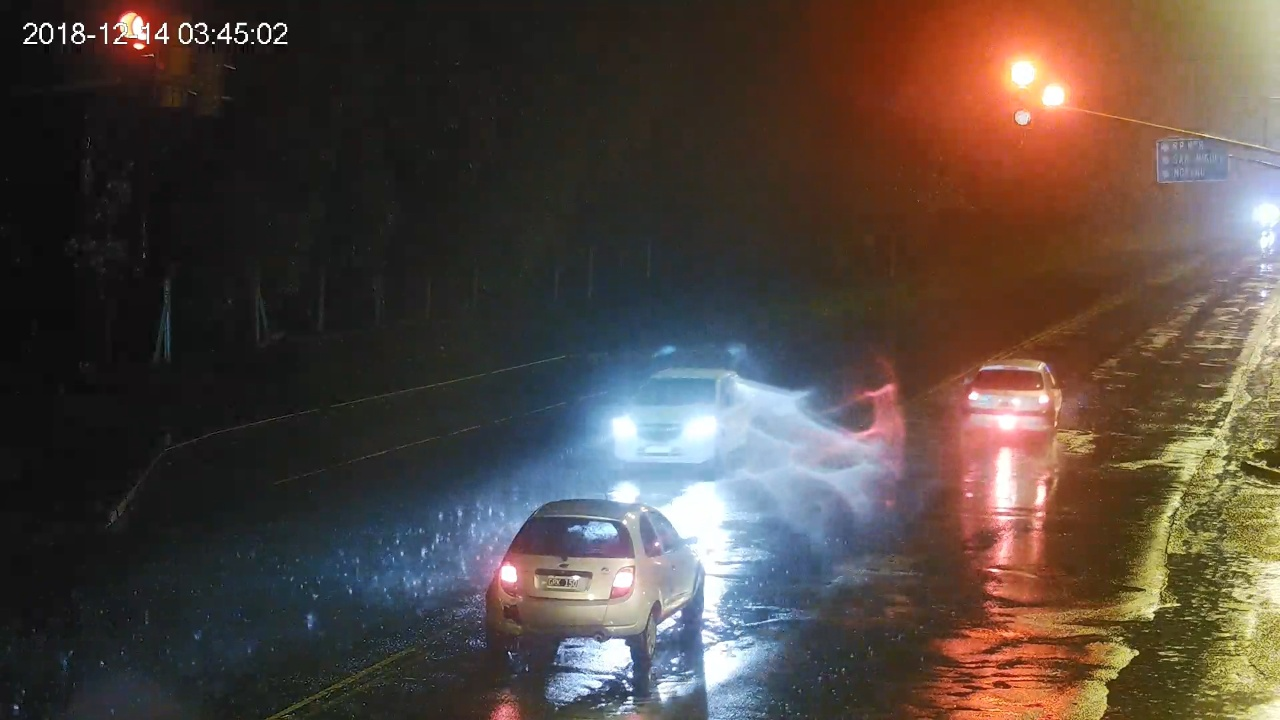car: (486, 500, 705, 660), (963, 360, 1065, 439)
front car: (614, 368, 744, 479)
traffic light: (1013, 64, 1032, 128)
